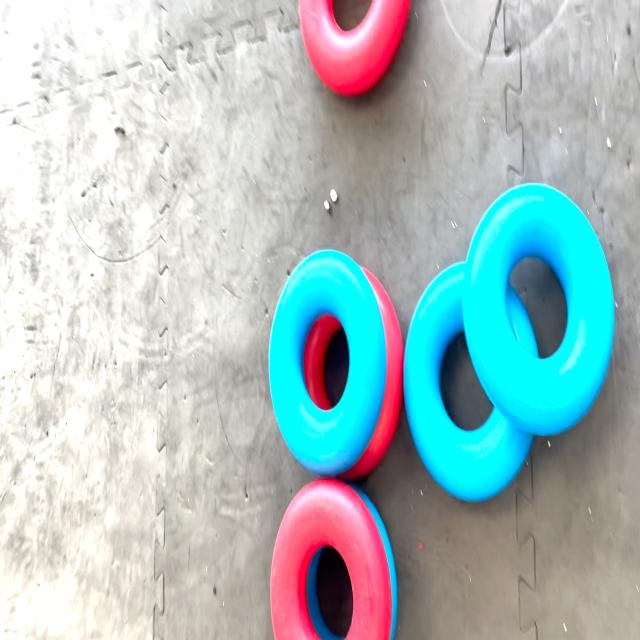Blue-Ring: (462, 184, 614, 436), (404, 262, 532, 500), (269, 249, 386, 476)
Red-Ring: (270, 480, 391, 640), (340, 267, 404, 480), (299, 0, 411, 96), (304, 313, 341, 410)
